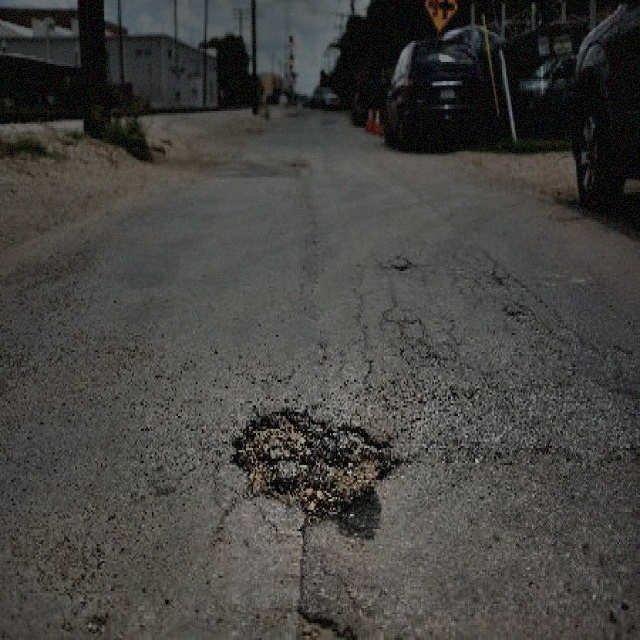pothole: (230, 408, 397, 518), (294, 601, 357, 638)
